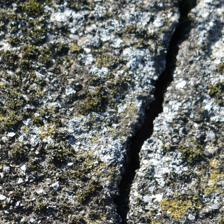Crack: (110, 3, 202, 219)
